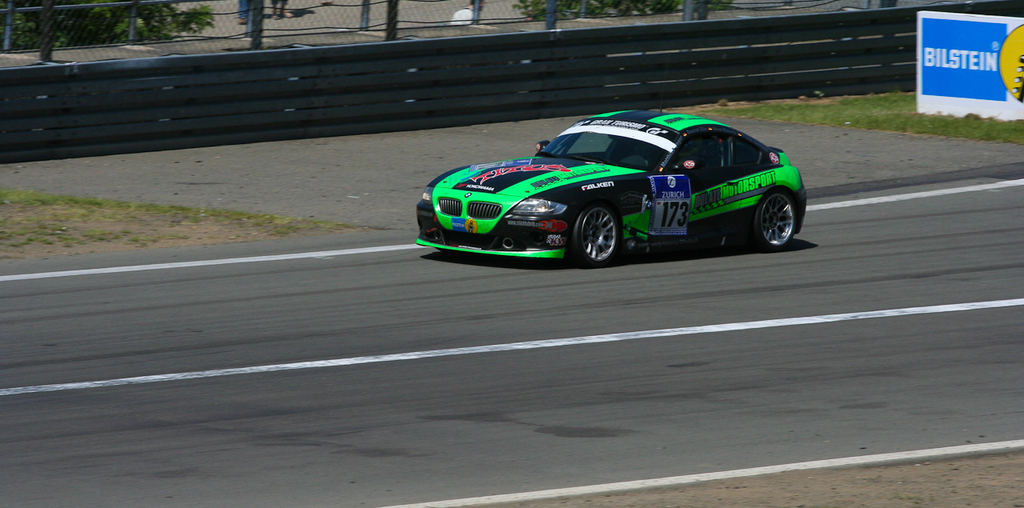Car: (407, 101, 805, 259)
